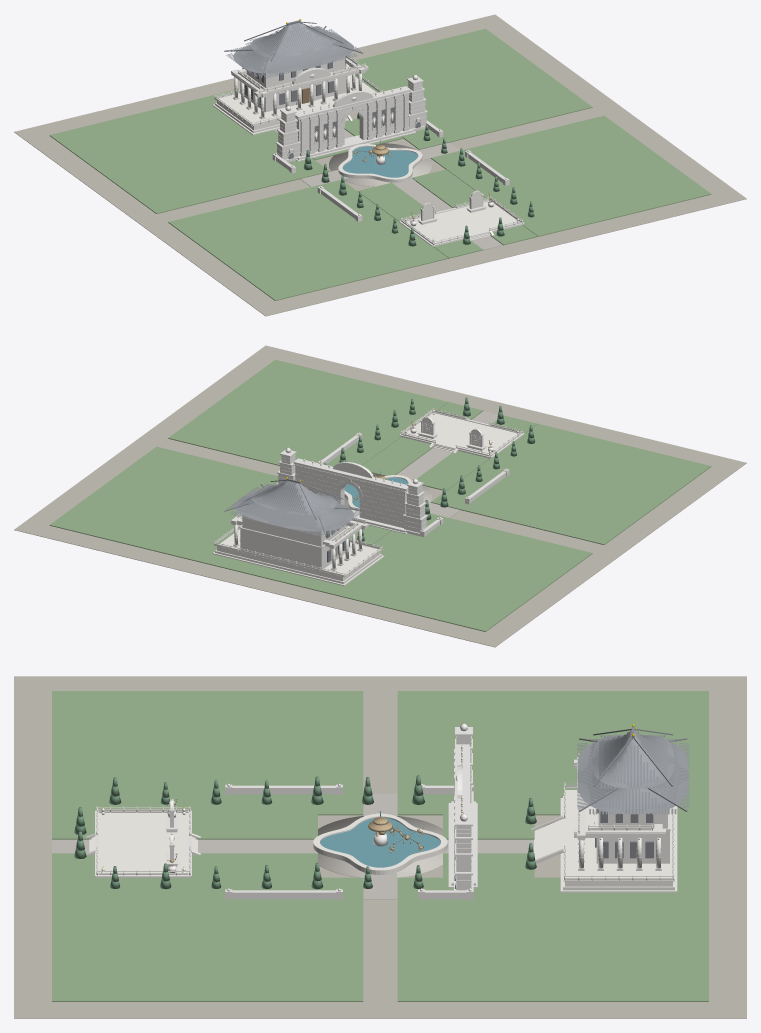
File: dashuifa_high.glb
The picture shows the model from 3 angles, top to bottom: view 1: azimuth 30°, elevation 25°; view 2: azimuth 150°, elevation 25°; view 3: azimuth 270°, elevation 25°; orthographic projection. The views are drawn at different scales.
Visible parts, largest first — view 1: DS_环境, DS_远瀛观, DS_大水法石龛, DS_观水法, DS_海棠喷水池; view 2: DS_环境, DS_远瀛观, DS_大水法石龛, DS_观水法, DS_海棠喷水池; view 3: DS_环境, DS_远瀛观, DS_观水法, DS_海棠喷水池, DS_大水法石龛.
Part boxes in pixels (bbox=[...]): DS_环境: bbox=[14, 14, 746, 316]; DS_远瀛观: bbox=[212, 19, 382, 134]; DS_大水法石龛: bbox=[275, 75, 427, 162]; DS_观水法: bbox=[399, 190, 524, 246]; DS_海棠喷水池: bbox=[338, 140, 422, 182]; DS_环境: bbox=[14, 345, 746, 647]; DS_远瀛观: bbox=[212, 477, 384, 585]; DS_大水法石龛: bbox=[276, 447, 427, 536]; DS_观水法: bbox=[399, 408, 524, 458]; DS_海棠喷水池: bbox=[344, 471, 411, 511]; DS_环境: bbox=[14, 676, 746, 1018]; DS_远瀛观: bbox=[531, 724, 689, 892]; DS_观水法: bbox=[86, 798, 200, 877]; DS_海棠喷水池: bbox=[313, 811, 447, 874]; DS_大水法石龛: bbox=[448, 722, 477, 890].
Size of the model in its own units: 128 by 20.77 by 116.
